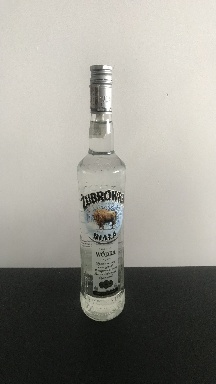butelka: (75, 62, 127, 324)
